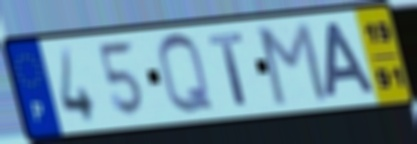4: (57, 43, 100, 125)
5: (94, 41, 148, 122)
A: (324, 20, 379, 102)
M: (256, 19, 331, 109)
Q: (155, 31, 219, 119)
T: (205, 30, 251, 109)
